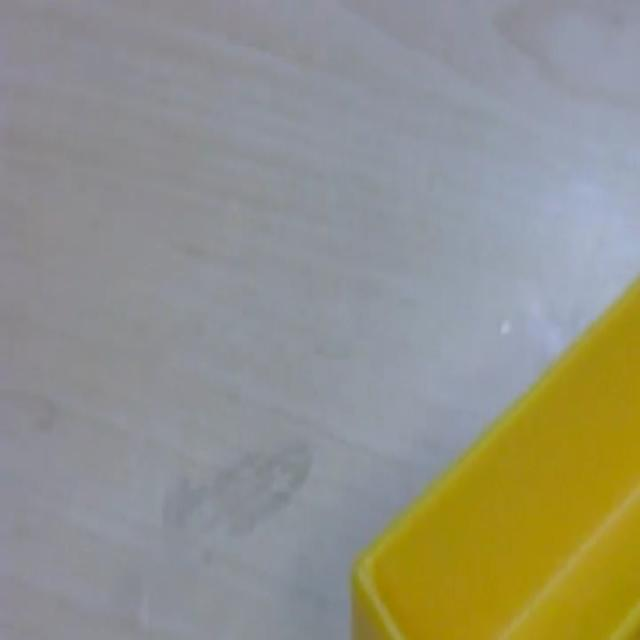yellow_block: (349, 274, 638, 638)
